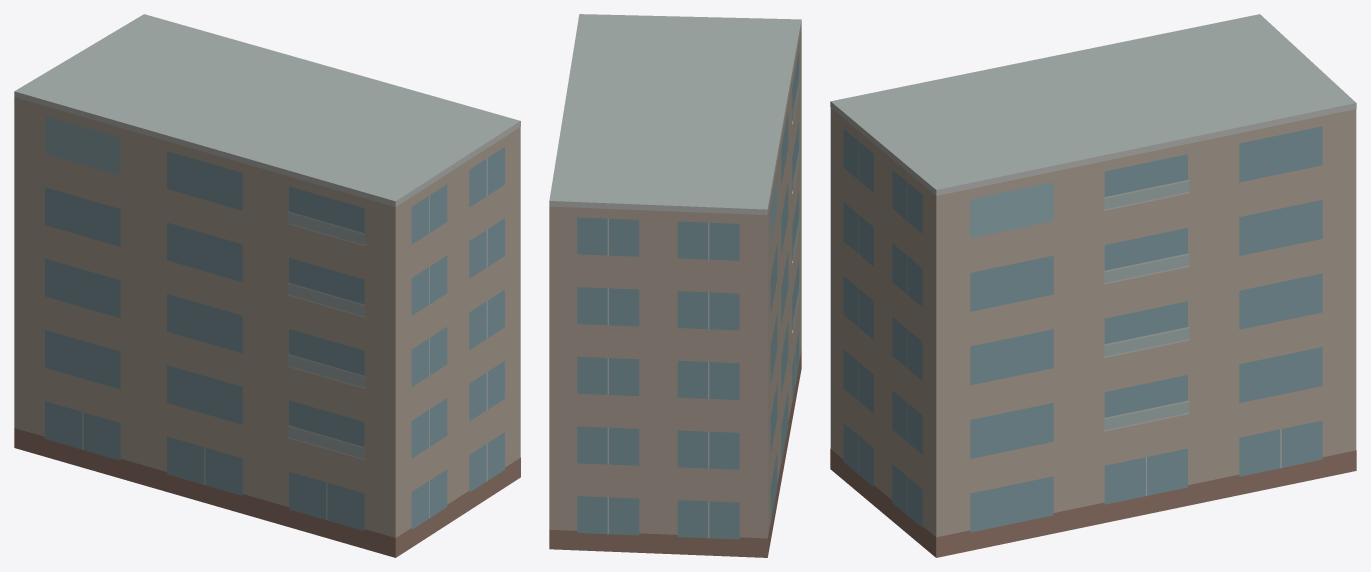
Rendered from survey-upis-32861058.glb.
3 views of the same model, side by side, from view 1: azimuth 30°, elevation 25°; view 2: azimuth 150°, elevation 25°; view 3: azimuth 270°, elevation 25° (orthographic). The views are drawn at different scales.
Visible parts, largest first — view 1: survey-upis-32861058.tmp; view 2: survey-upis-32861058.tmp; view 3: survey-upis-32861058.tmp.
Part boxes in pixels (x1,y1,x2,y2): survey-upis-32861058.tmp: (14, 14, 520, 557); survey-upis-32861058.tmp: (549, 14, 801, 557); survey-upis-32861058.tmp: (830, 14, 1356, 557).
Size of the model in its own units: 15.42 by 15.02 by 19.47.
